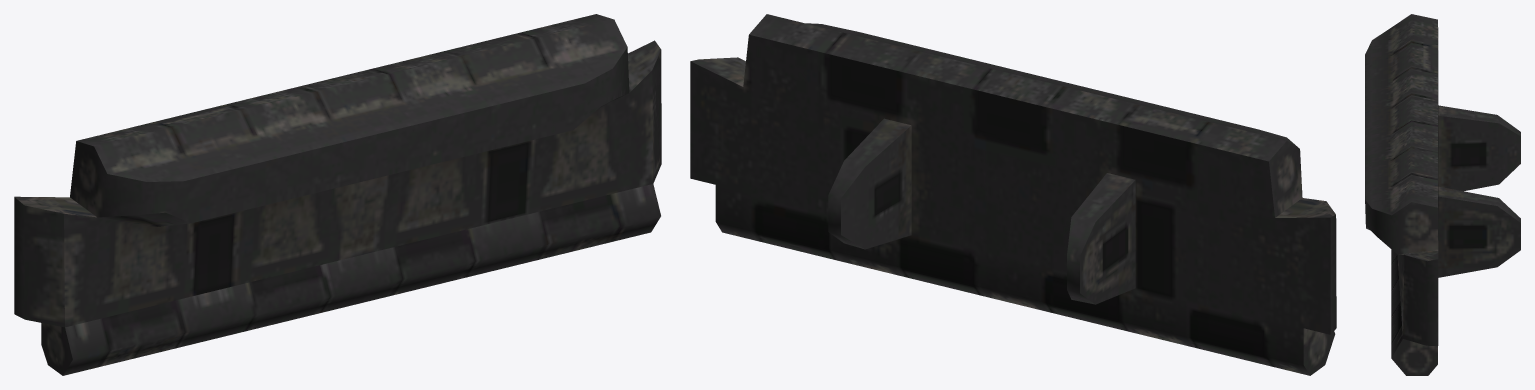
The model's file is PzV_track.glb.
The picture shows the model from 3 angles, left to right: view 1: azimuth 30°, elevation 25°; view 2: azimuth 150°, elevation 25°; view 3: azimuth 270°, elevation 25°; orthographic projection. The views are drawn at different scales.
Parts seen in each view (by area): view 1: set_0_group_0; view 2: set_0_group_0; view 3: set_0_group_0.
Boxes of the visible parts, x1,y1,x2,y2 form: set_0_group_0: (14,14,661,375); set_0_group_0: (690,14,1336,375); set_0_group_0: (1365,14,1520,375).
Bounding box in the file's own units: 0.663 × 0.216 × 0.1887.
Materials: 1 (1 with a texture image).
